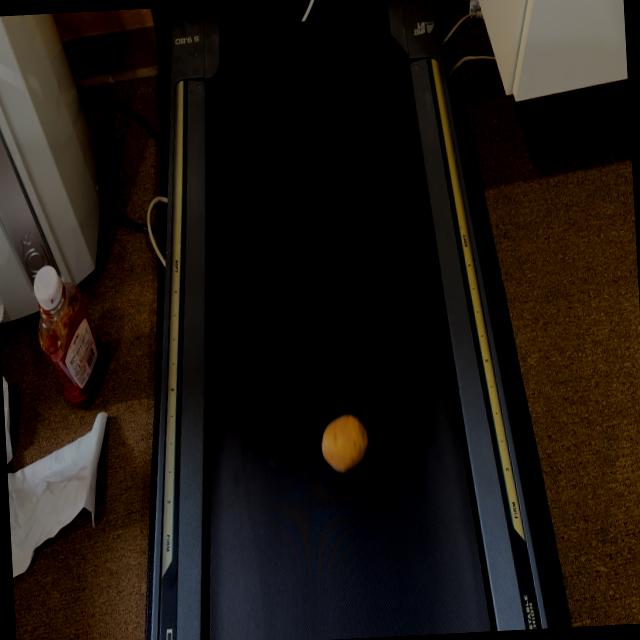Trash: (317, 402, 382, 497), (296, 0, 337, 29)
